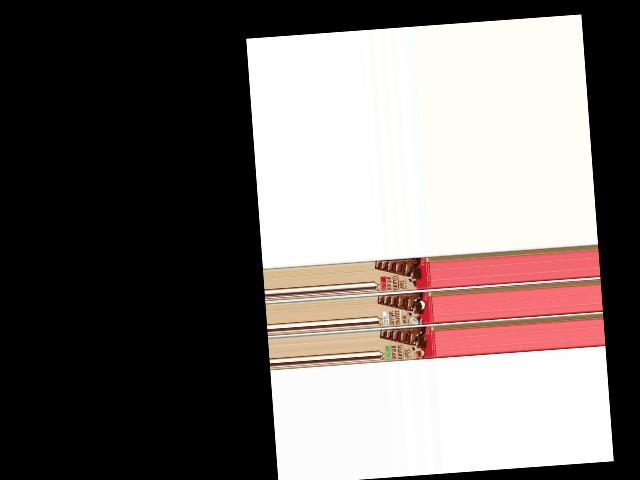chocolate: (379, 326, 437, 363)
